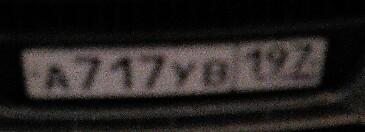license-plateSW: (13, 38, 351, 101)
